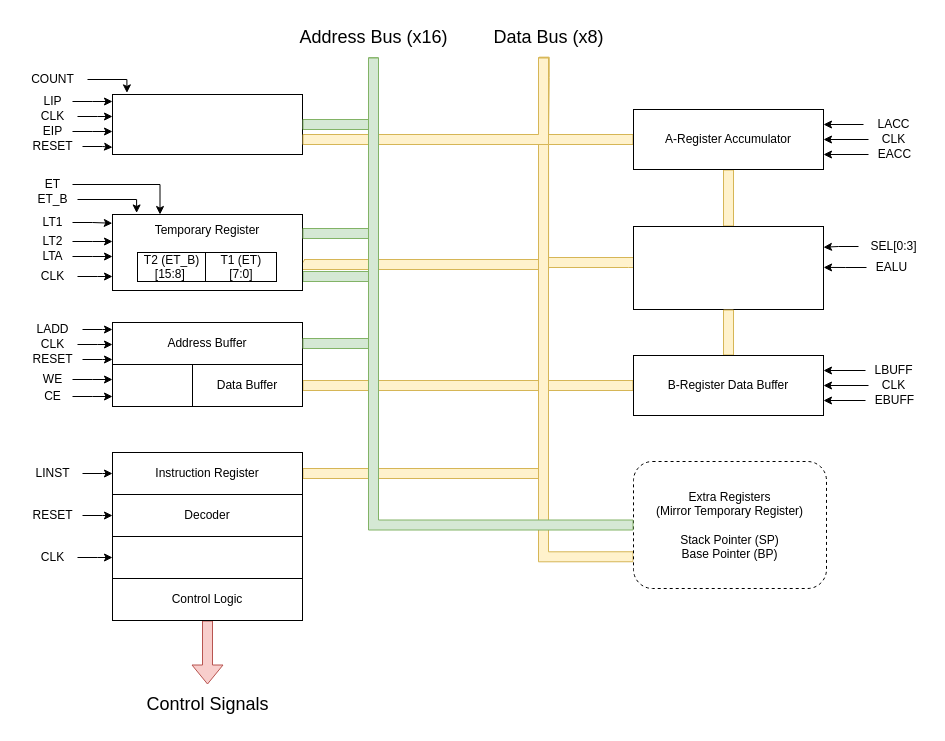
This 945x741 diagram has some shape labels left out. The centre of each missing label's shape, as x and y in pixels:
Arithmetic Logic Unit (ALU) CF ZF SF OF: (x=728, y=268)
Instruction Pointer (IP): (x=207, y=124)
Memory: (x=153, y=385)
Timing Control: (x=207, y=557)
